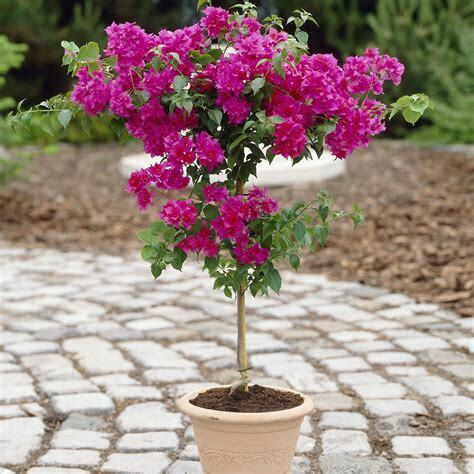bougainvillea: (177, 230, 216, 260), (276, 120, 306, 157), (196, 134, 224, 170), (159, 201, 196, 227), (235, 241, 269, 265), (212, 216, 245, 240), (202, 6, 231, 33), (220, 197, 251, 222), (227, 98, 253, 125), (302, 72, 328, 97), (380, 55, 404, 81), (162, 169, 191, 190), (126, 171, 151, 193), (162, 130, 185, 152), (84, 94, 107, 114), (203, 185, 226, 203), (137, 189, 152, 208), (262, 198, 277, 214)
